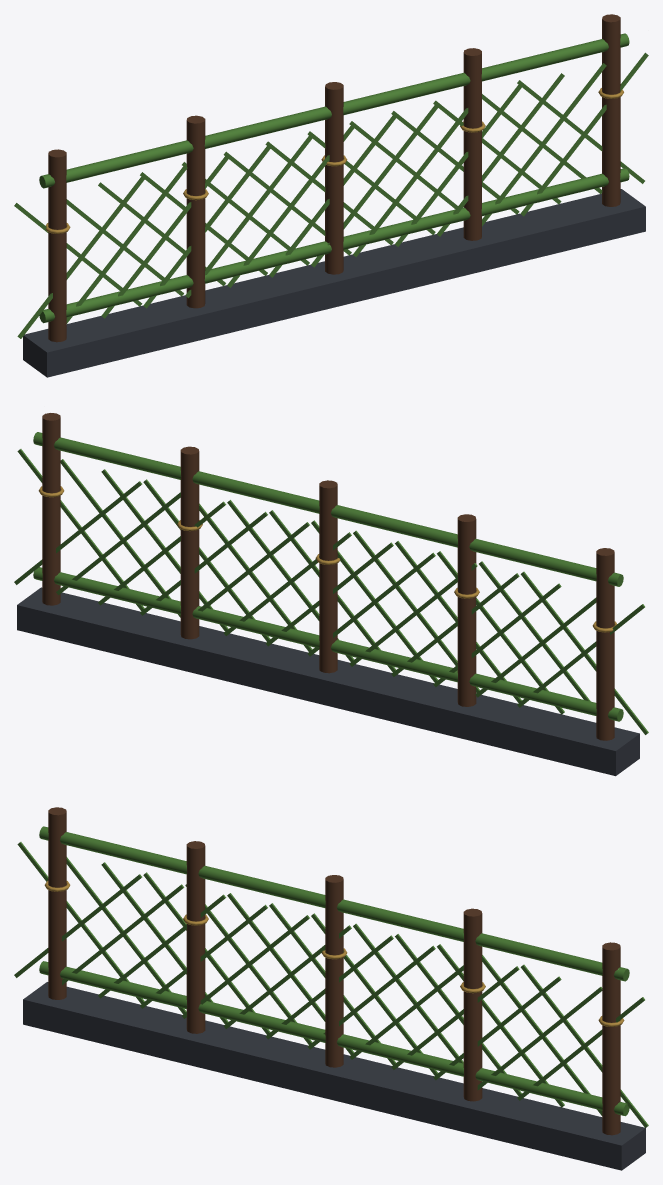
Rendered from pal1-env-bamboo-fence.glb.
The picture shows the model from 3 angles, top to bottom: view 1: azimuth 30°, elevation 25°; view 2: azimuth 150°, elevation 25°; view 3: azimuth 330°, elevation 25°; orthographic projection.
Visible parts, largest first — view 1: Pal1BambooFence; view 2: Pal1BambooFence; view 3: Pal1BambooFence.
Part boxes in pixels (x1,y1,x2,y2): Pal1BambooFence: (14, 14, 648, 377); Pal1BambooFence: (14, 413, 648, 776); Pal1BambooFence: (14, 807, 648, 1170).
Bounding box in the file's own units: 4.21 × 1.34 × 0.351.
